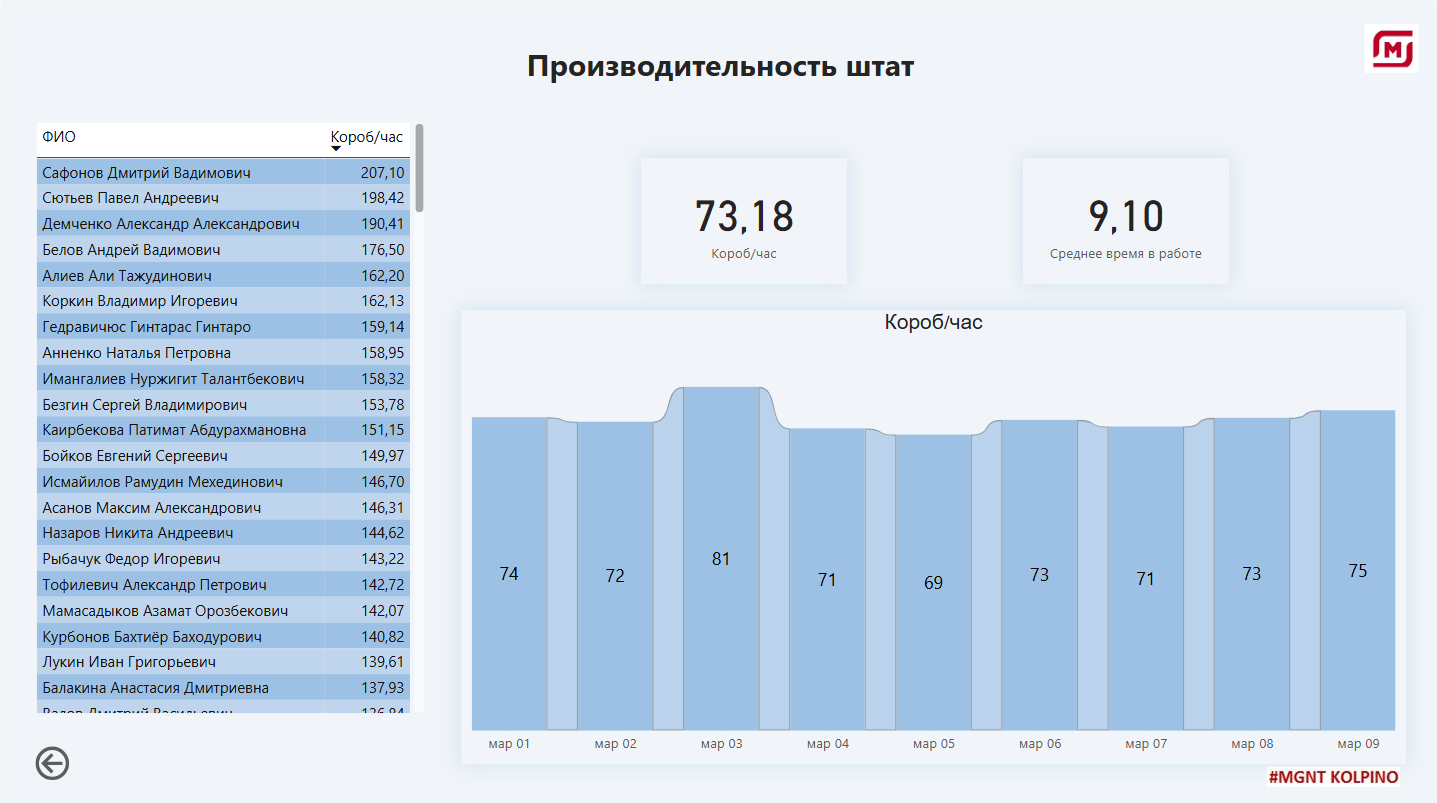

This screenshot's page, from the dashboard's own definition file:
{"tool":"powerbi","page":{"name":"Производительность Собственный","canvas":[1280,720],"ordinal":3},"visuals":[{"type":"actionButton","box":[23.9,660.6,45.2,39.9],"z":0},{"type":"tableEx","fields":{"Values":["Единый_отчёт_мотивации_Собственный.ФИО сотрудника","Avg(Единый_отчёт_мотивации_Собственный.Короб/час)"]},"box":[23.7,103.6,357.3,536.9],"z":1000},{"type":"ribbonChart","title":"Короб/час","fields":{"Y":["Avg(Единый_отчёт_мотивации_Собственный.Короб/час)"],"Category":["Единый_отчёт_мотивации_Собственный.Дата смены"]},"box":[408.8,275.8,843.2,405.2],"z":2000},{"type":"card","fields":{"Values":["Avg(Единый_отчёт_мотивации_Собственный.Короб/час)"]},"box":[569.3,140.1,183.6,111.7],"z":3000},{"type":"card","fields":{"Values":["Avg(Единый_отчёт_мотивации_Собственный.Время)"]},"box":[909.8,140.1,183.6,111.7],"z":4000},{"type":"textbox","box":[461.9,32.6,357.3,47.4],"z":5000},{"type":"image","box":[1210,14,58,56],"z":6000},{"type":"image","box":[1112.8,678.3,148.1,28.4],"z":7000}]}

Visuals, with their boxes in screenshot pixels (x1, y1, x2, y2), scaled from the page's 1280x720 canvas onto the 1437x803 screenshot:
actionButton: pyautogui.locateOnScreen(27, 737, 78, 781)
tableEx - Единый_отчёт_мотивации_Собственный.ФИО сотрудника x Avg(Единый_отчёт_мотивации_Собственный.Короб/час): pyautogui.locateOnScreen(27, 116, 428, 714)
"Короб/час" ribbonChart: pyautogui.locateOnScreen(459, 308, 1406, 760)
card - Avg(Единый_отчёт_мотивации_Собственный.Короб/час): pyautogui.locateOnScreen(639, 156, 845, 281)
card - Avg(Единый_отчёт_мотивации_Собственный.Время): pyautogui.locateOnScreen(1021, 156, 1228, 281)
textbox: pyautogui.locateOnScreen(519, 36, 920, 89)
image: pyautogui.locateOnScreen(1358, 16, 1424, 78)
image: pyautogui.locateOnScreen(1249, 756, 1416, 788)
